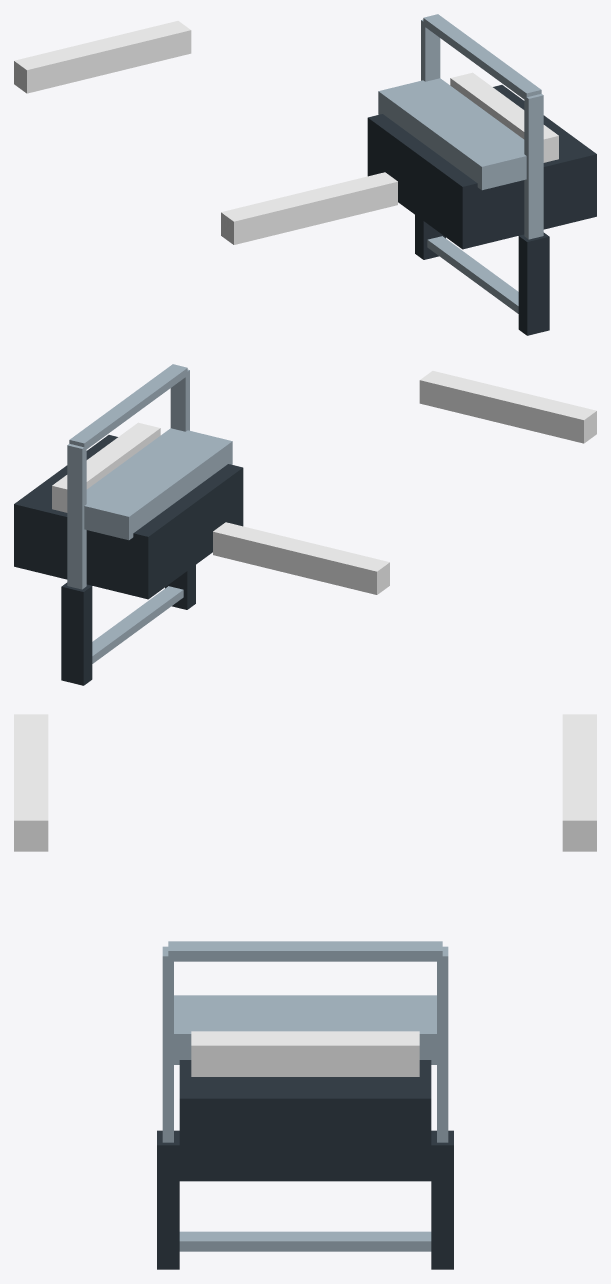
File: details.glb
3 renders of one model, top to bottom at view 1: azimuth 30°, elevation 25°; view 2: azimuth 150°, elevation 25°; view 3: azimuth 270°, elevation 25°, orthographic. The views are drawn at different scales.
Visible parts, largest first — view 1: frame-details, fixed-details, roll-details, cradle-details; view 2: frame-details, fixed-details, roll-details, cradle-details; view 3: frame-details, roll-details, fixed-details, cradle-details.
Part boxes in pixels (<box>): frame-details: <box>367,72,596,249</box>; fixed-details: <box>14,21,397,244</box>; roll-details: <box>421,14,543,313</box>; cradle-details: <box>415,215,549,335</box>; frame-details: <box>14,422,243,599</box>; fixed-details: <box>213,371,596,594</box>; roll-details: <box>67,364,189,663</box>; cradle-details: <box>61,565,195,685</box>; frame-details: <box>168,995,442,1181</box>; roll-details: <box>162,941,448,1251</box>; fixed-details: <box>14,714,596,851</box>; cradle-details: <box>157,1130,453,1269</box>.
Size of the model in its own units: 57 by 30.5 by 51.
